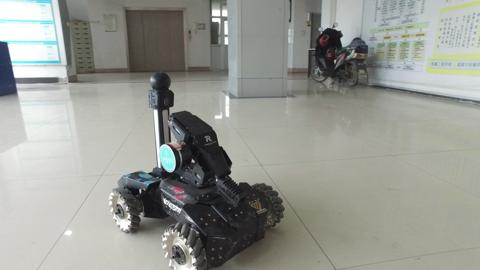chariot: (95, 67, 296, 270)
